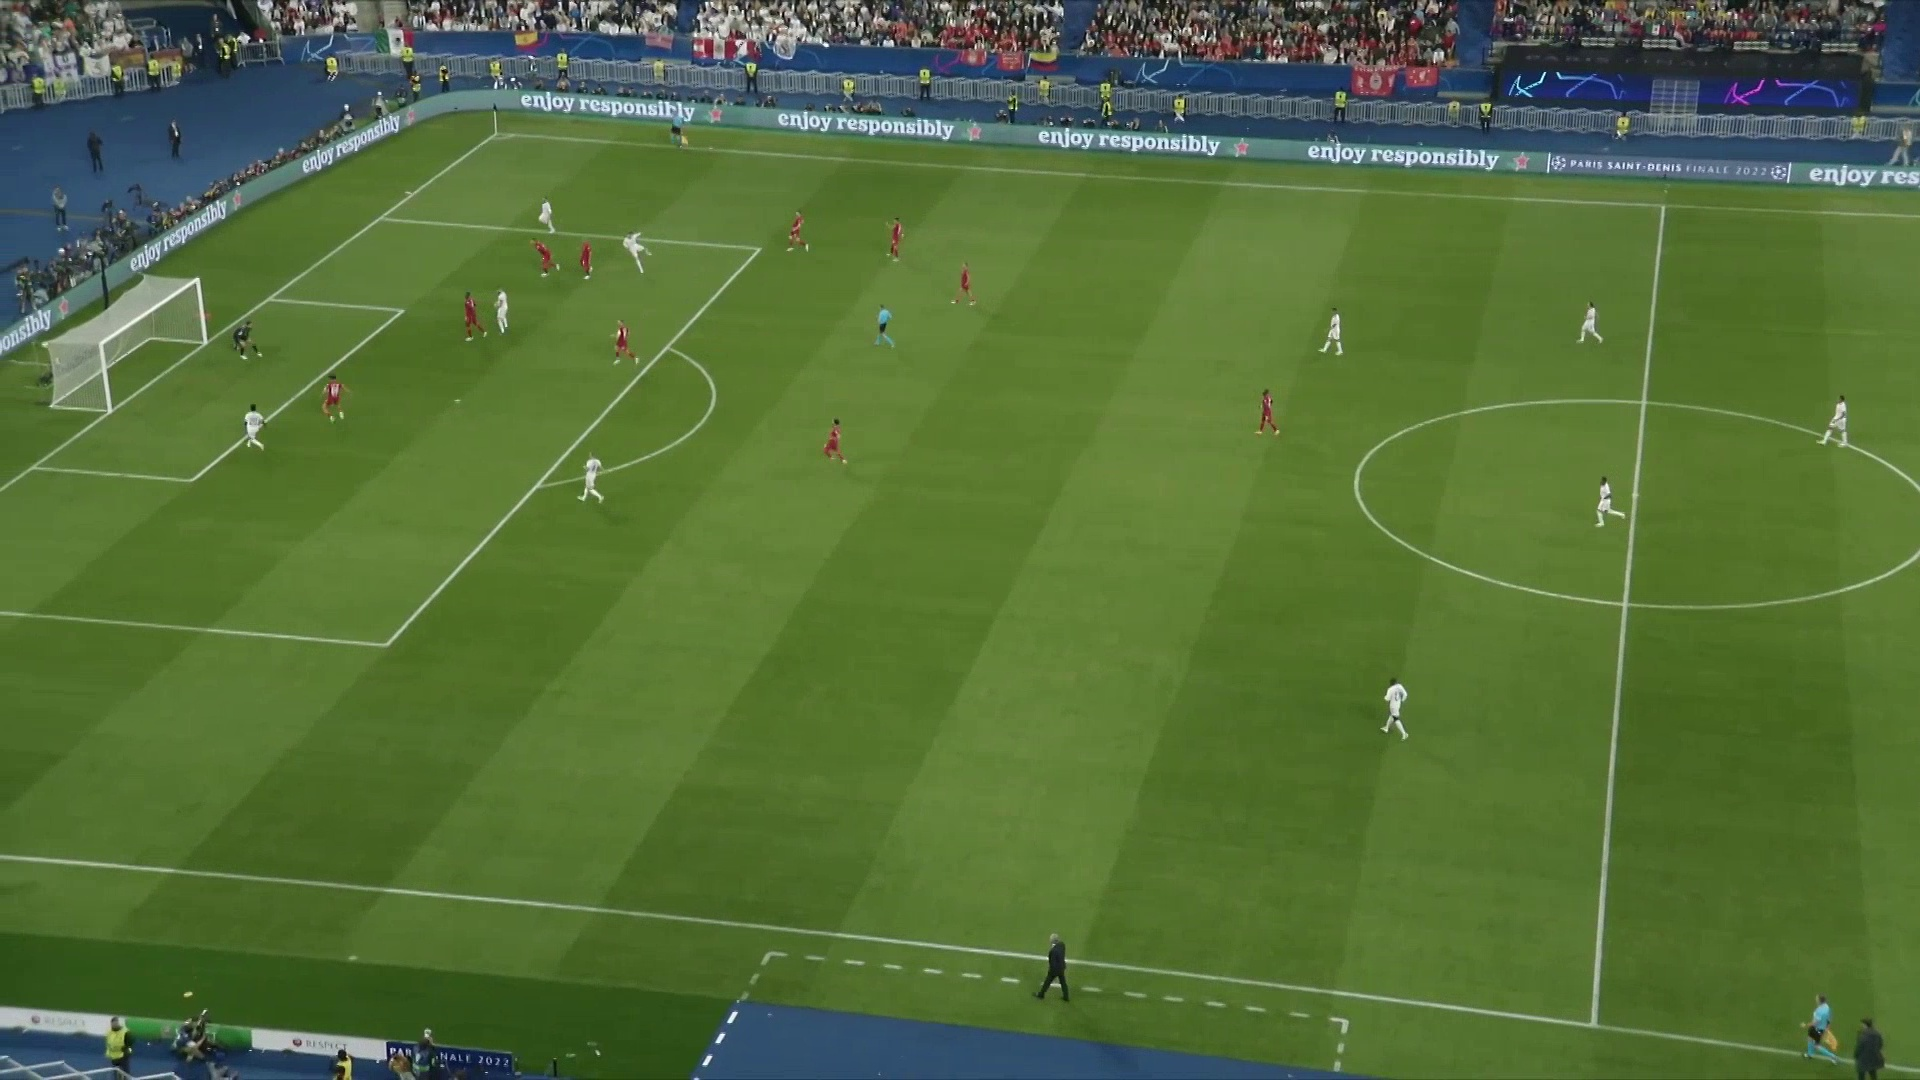player 1: (616, 235, 668, 278)
player 10: (1592, 461, 1636, 536)
player 11: (1360, 659, 1437, 761)
player 12: (228, 315, 274, 358)
player 13: (522, 243, 567, 282)
player 14: (319, 366, 355, 435)
player 15: (577, 241, 601, 278)
player 16: (450, 272, 483, 341)
player 17: (601, 312, 655, 375)
player 18: (879, 213, 914, 267)
player 19: (953, 259, 985, 313)
player 2: (532, 190, 563, 231)
player 20: (786, 202, 814, 259)
player 21: (1256, 384, 1293, 444)
player 22: (814, 405, 860, 470)
player 3: (237, 397, 276, 453)
player 4: (494, 282, 521, 336)
player 5: (582, 440, 616, 508)
player 7: (1314, 299, 1353, 356)
player 8: (1582, 297, 1612, 356)
player 9: (1816, 388, 1864, 457)
reffree: (864, 300, 909, 358)
